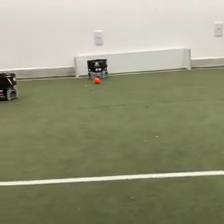ball: (92, 75, 102, 84)
goal: (73, 46, 193, 80)
robot: (1, 70, 21, 102), (85, 57, 110, 79)
